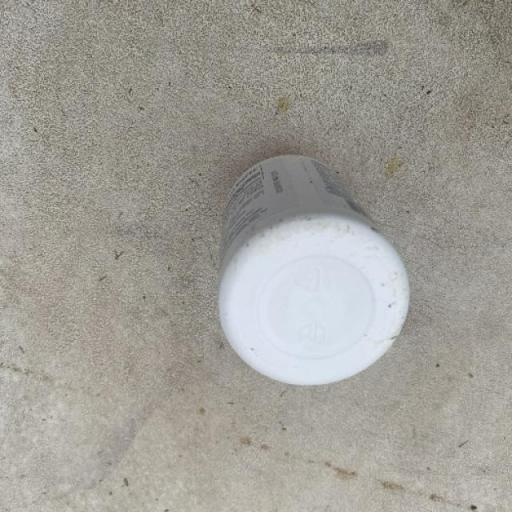plastic: (216, 152, 410, 386)
